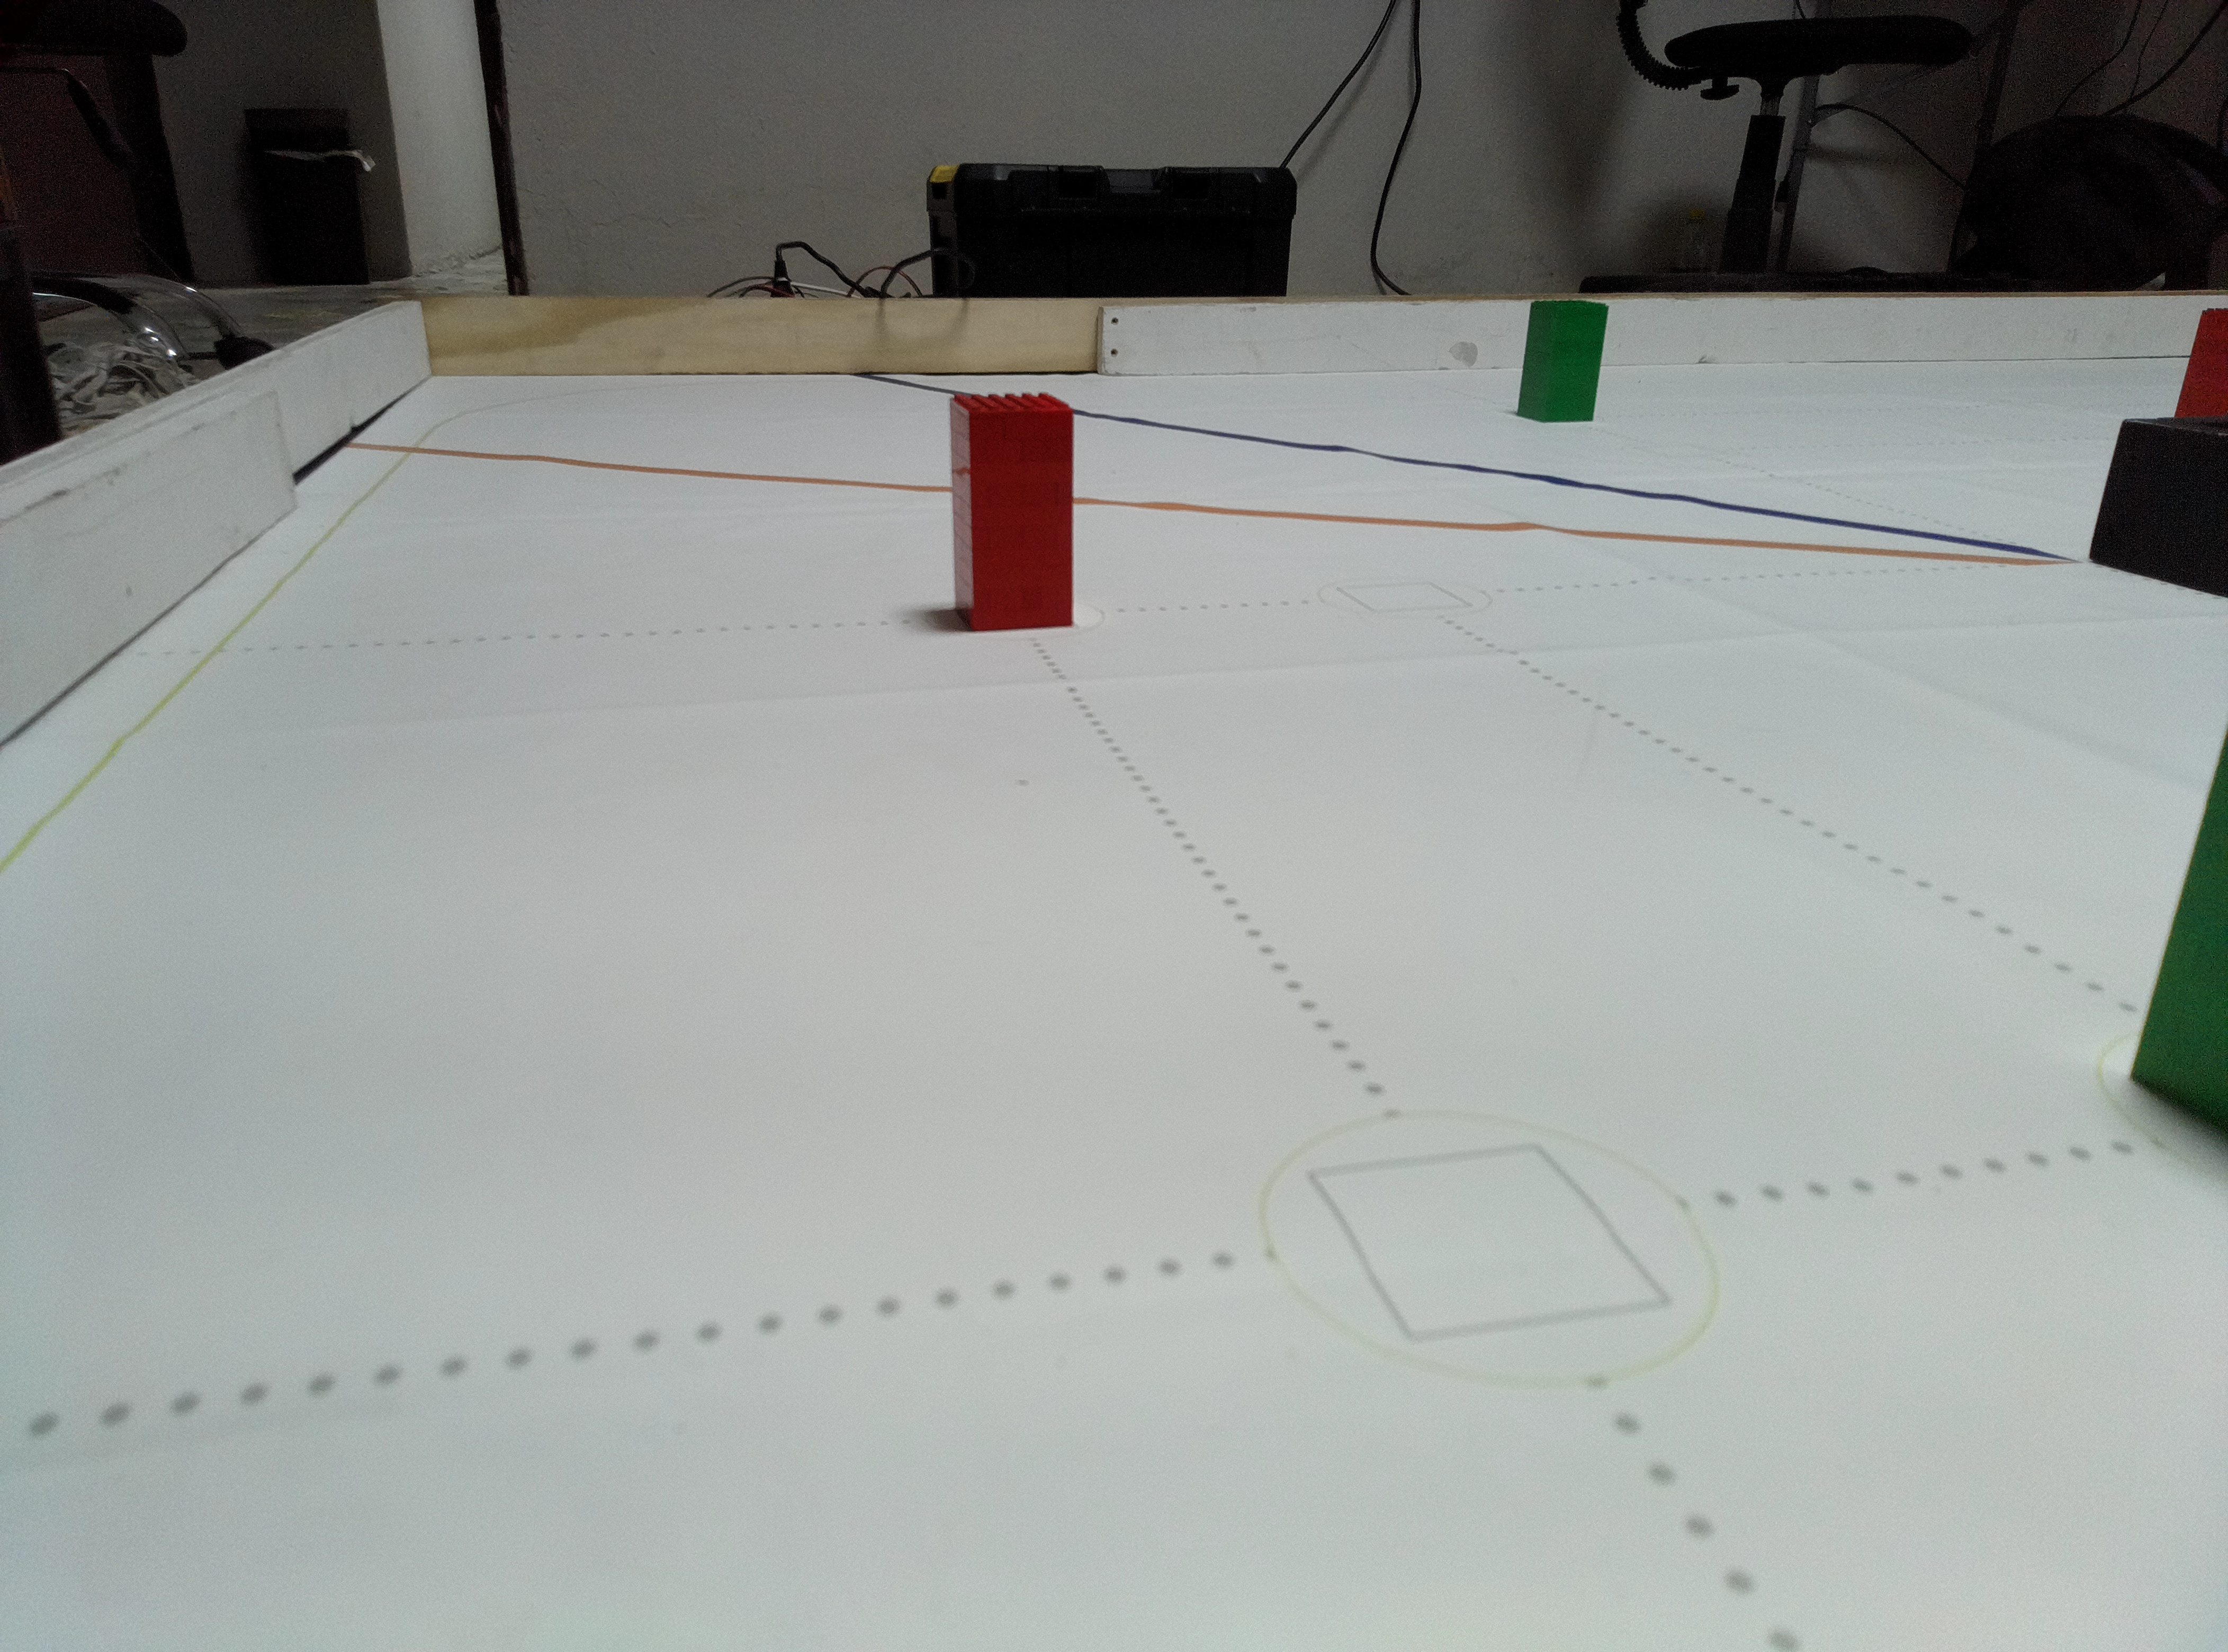greenbox: (2117, 722, 2226, 1170), (1517, 297, 1610, 425)
redbox: (947, 392, 1078, 633), (2167, 305, 2228, 423)
